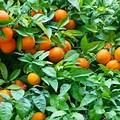orange: (1, 25, 21, 53), (47, 3, 71, 24), (107, 39, 120, 69), (28, 65, 45, 84), (90, 47, 108, 64), (46, 45, 65, 61)
